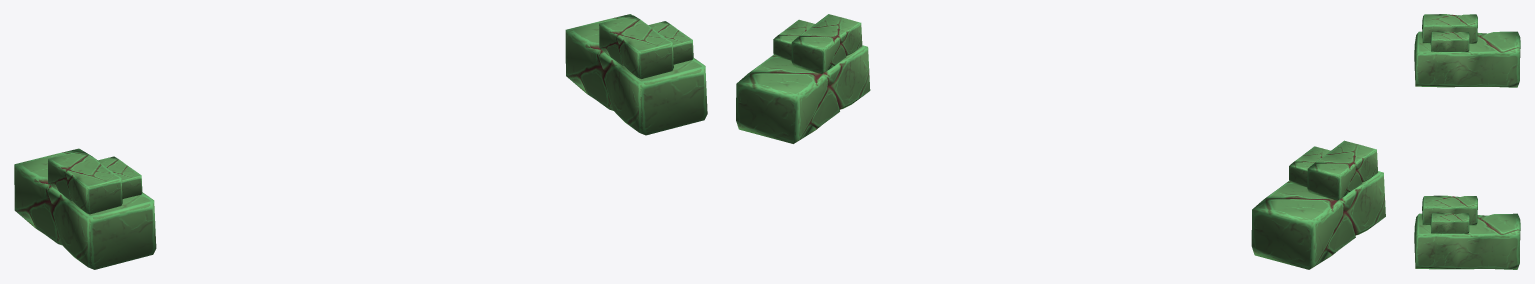
File: walls_east_west1.obj
The picture shows the model from 3 angles, left to right: view 1: azimuth 30°, elevation 25°; view 2: azimuth 150°, elevation 25°; view 3: azimuth 270°, elevation 25°; orthographic projection. The views are drawn at different scales.
Visible parts, largest first — view 1: brick3_low.035, brick3_low.010, brick3_low.036, brick3_low.009, brick3_low.034, brick3_low.011; view 2: brick3_low.035, brick3_low.010, brick3_low.036, brick3_low.009, brick3_low.034, brick3_low.011; view 3: brick3_low.035, brick3_low.010, brick3_low.036, brick3_low.009, brick3_low.034, brick3_low.011.
Part boxes in pixels (x1,y1,x2,y2): brick3_low.035: (565,14,707,135); brick3_low.010: (14,148,156,269); brick3_low.036: (599,15,673,78); brick3_low.009: (48,150,122,214); brick3_low.034: (648,21,693,64); brick3_low.011: (97,156,142,198); brick3_low.035: (736,45,870,143); brick3_low.010: (1251,171,1385,269); brick3_low.036: (791,14,862,73); brick3_low.009: (1307,140,1377,200); brick3_low.034: (773,19,814,60); brick3_low.011: (1289,146,1330,187); brick3_low.035: (1414,213,1520,269); brick3_low.010: (1414,31,1520,87); brick3_low.036: (1422,195,1477,225); brick3_low.009: (1422,14,1477,43); brick3_low.034: (1430,213,1469,233); brick3_low.011: (1430,31,1469,52).
Bounding box in the file's own units: 2349 × 290 × 516.
